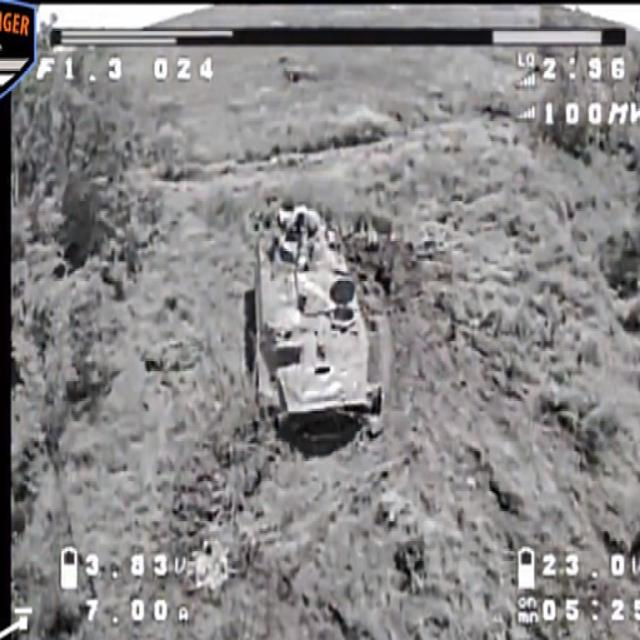APC-IFV: (239, 187, 390, 449)
